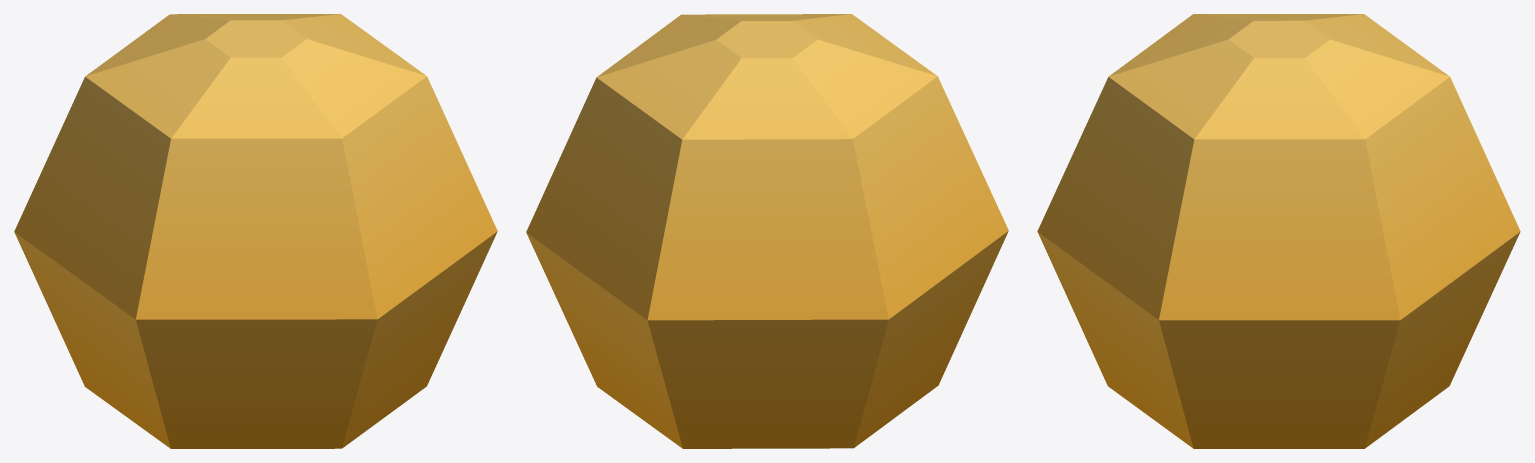
The model's file is Yellowberry Piece.fbx.
The picture shows the model from 3 angles, left to right: view 1: azimuth 30°, elevation 25°; view 2: azimuth 150°, elevation 25°; view 3: azimuth 270°, elevation 25°; orthographic projection.
Visible parts, largest first — view 1: Yellowberry Piece; view 2: Yellowberry Piece; view 3: Yellowberry Piece.
Part boxes in pixels (x1,y1,x2,y2): Yellowberry Piece: (14,14,497,448); Yellowberry Piece: (526,14,1008,448); Yellowberry Piece: (1037,14,1520,448).
Size of the model in its own units: 4.43 by 4.44 by 5.11.
